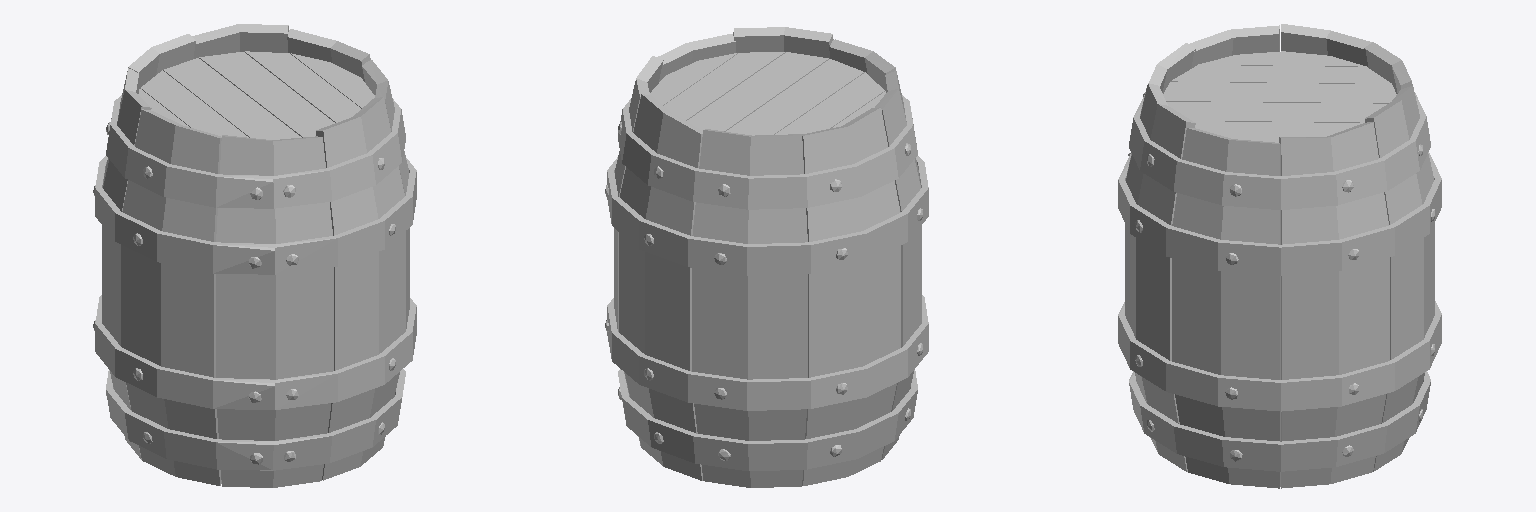
The model's file is Barrel_half_OBJ.obj.
The picture shows the model from 3 angles: view 1: azimuth 30°, elevation 25°; view 2: azimuth 150°, elevation 25°; view 3: azimuth 270°, elevation 25°; orthographic projection.
Visible parts, largest first — view 1: barrel; view 2: barrel; view 3: barrel.
Boxes of the visible parts, <box> form: barrel: <box>93,24,416,487</box>; barrel: <box>605,27,928,487</box>; barrel: <box>1118,24,1441,488</box>.
Size of the model in its own units: 0.7611 by 0.9179 by 0.7611.